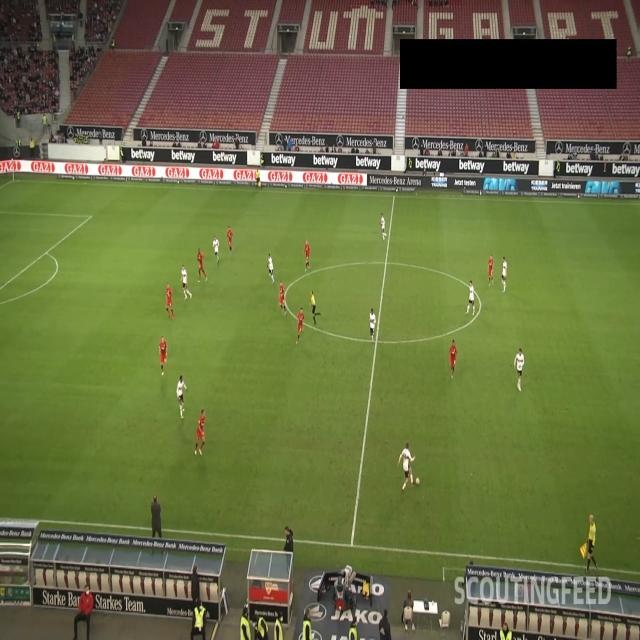ball: (415, 476, 421, 487)
